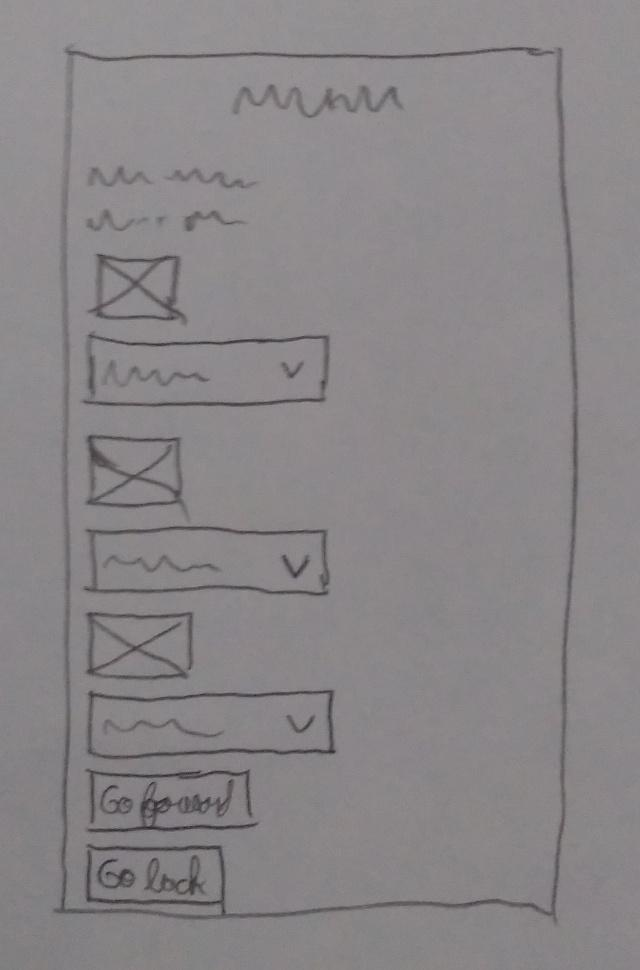Button: (86, 769, 257, 833), (86, 842, 226, 905)
Image: (85, 611, 194, 681), (86, 434, 183, 508), (94, 253, 181, 319)
Label: (88, 167, 262, 232), (233, 84, 404, 119)
ListPicker: (85, 334, 330, 407), (89, 690, 336, 758), (86, 527, 330, 595)
Screen: (62, 45, 579, 916)
